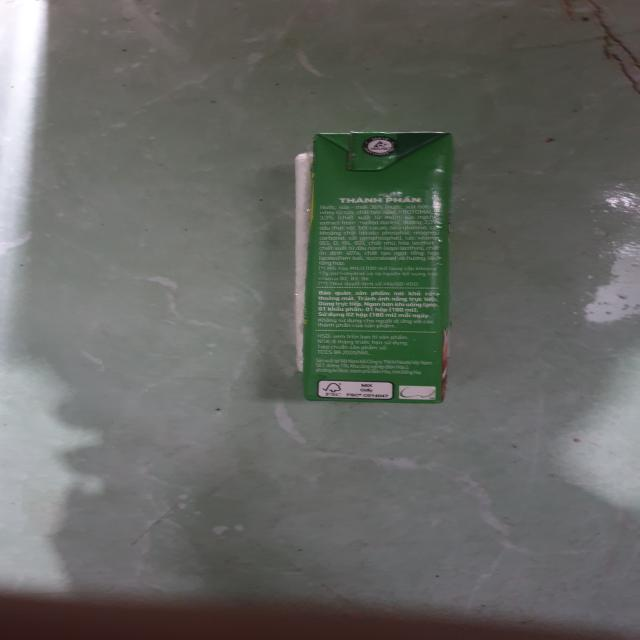Milo: (292, 128, 465, 411)
